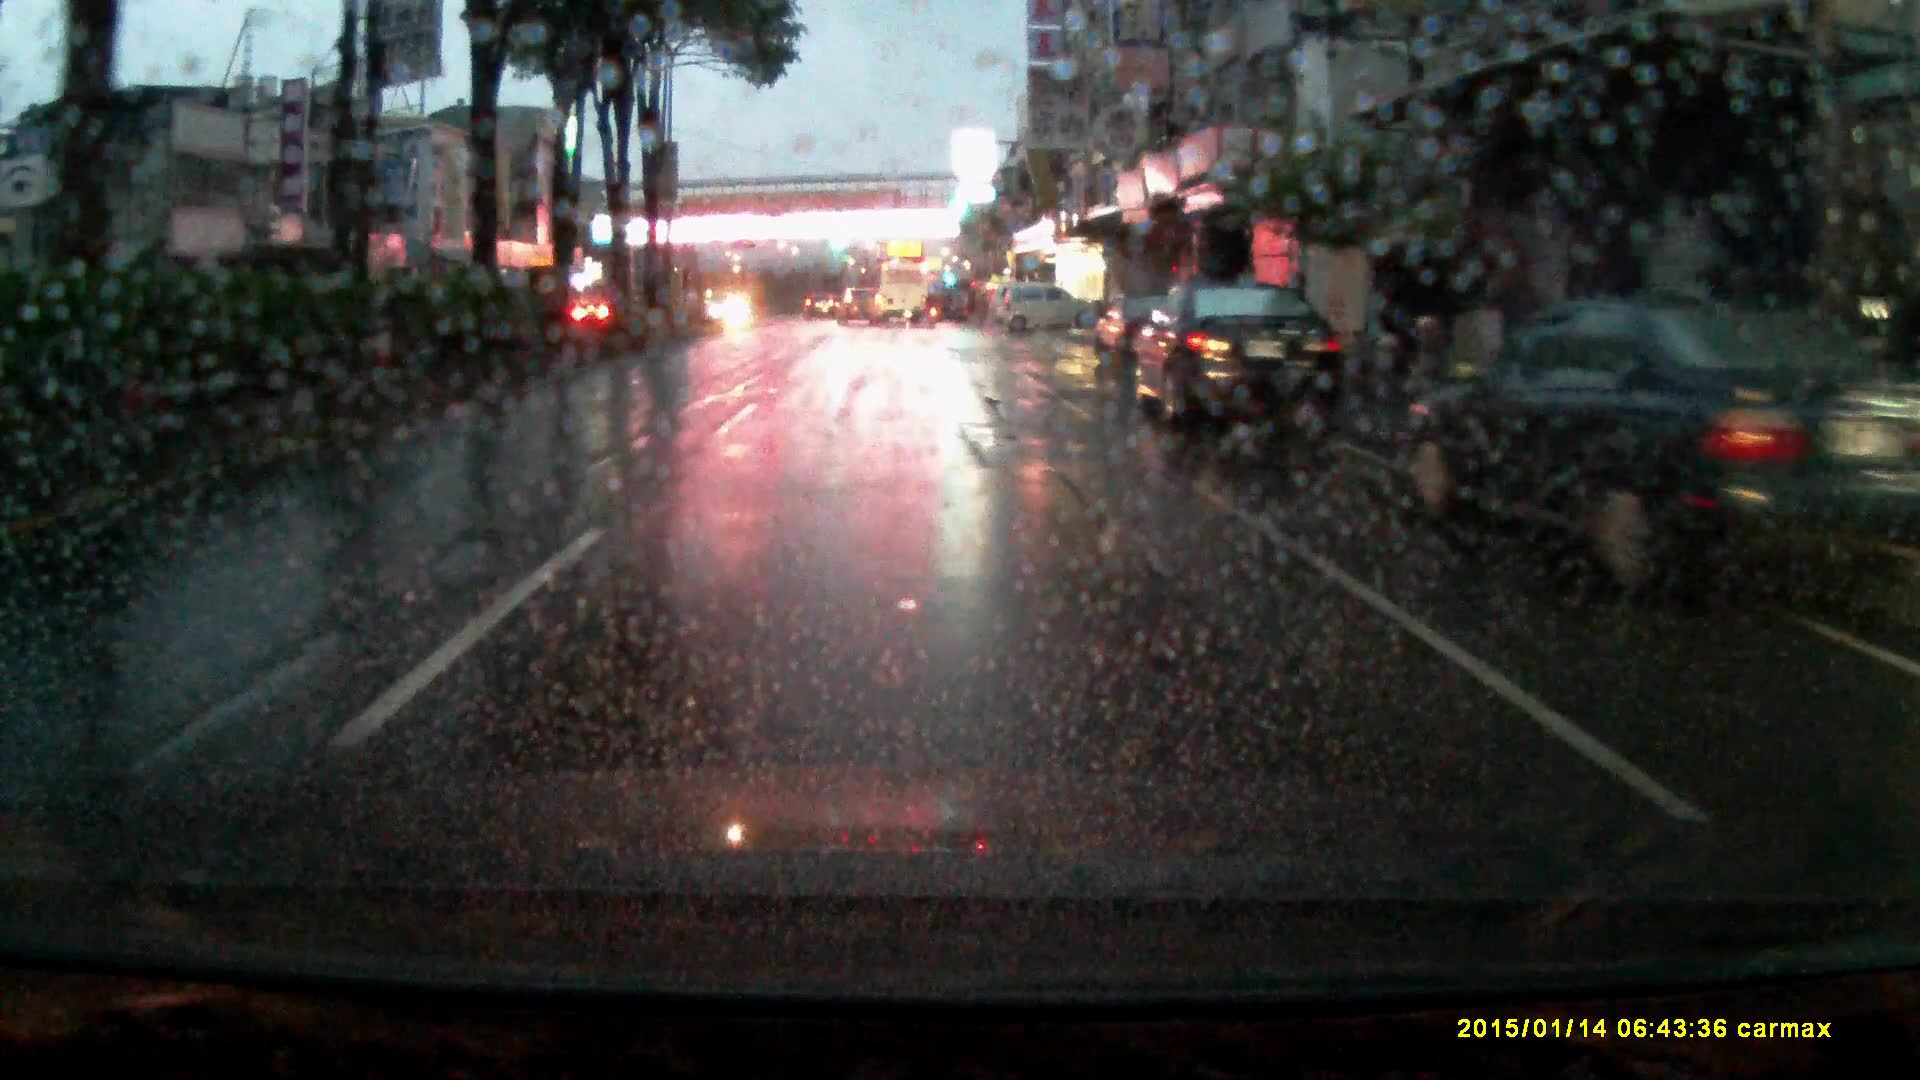vehicle: (1411, 305, 1867, 636), (1131, 284, 1338, 448), (1091, 295, 1174, 376), (1000, 286, 1093, 342), (862, 265, 930, 330), (835, 293, 884, 335), (804, 297, 837, 328)
